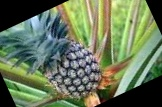Pineapple: (1, 17, 104, 99)
